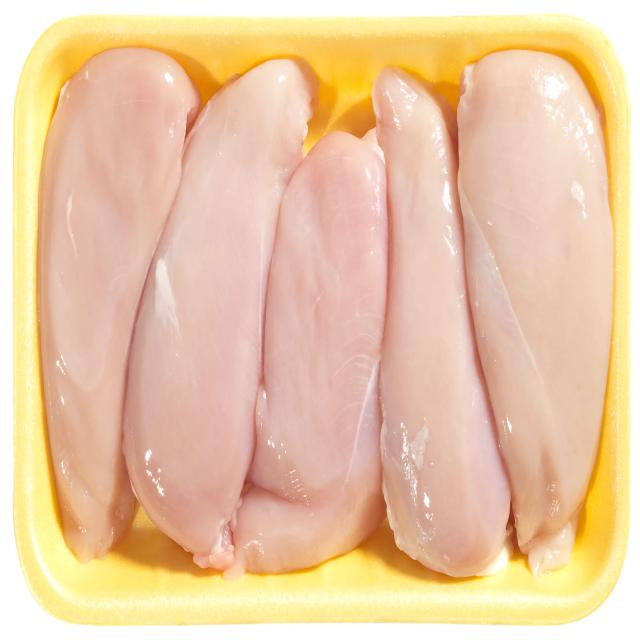chicken: (121, 56, 320, 572), (36, 45, 201, 564), (456, 47, 614, 577), (226, 124, 389, 579), (372, 63, 514, 579)
